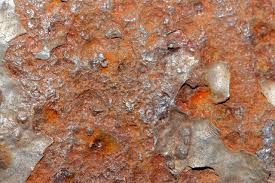rust: (7, 2, 275, 180)
